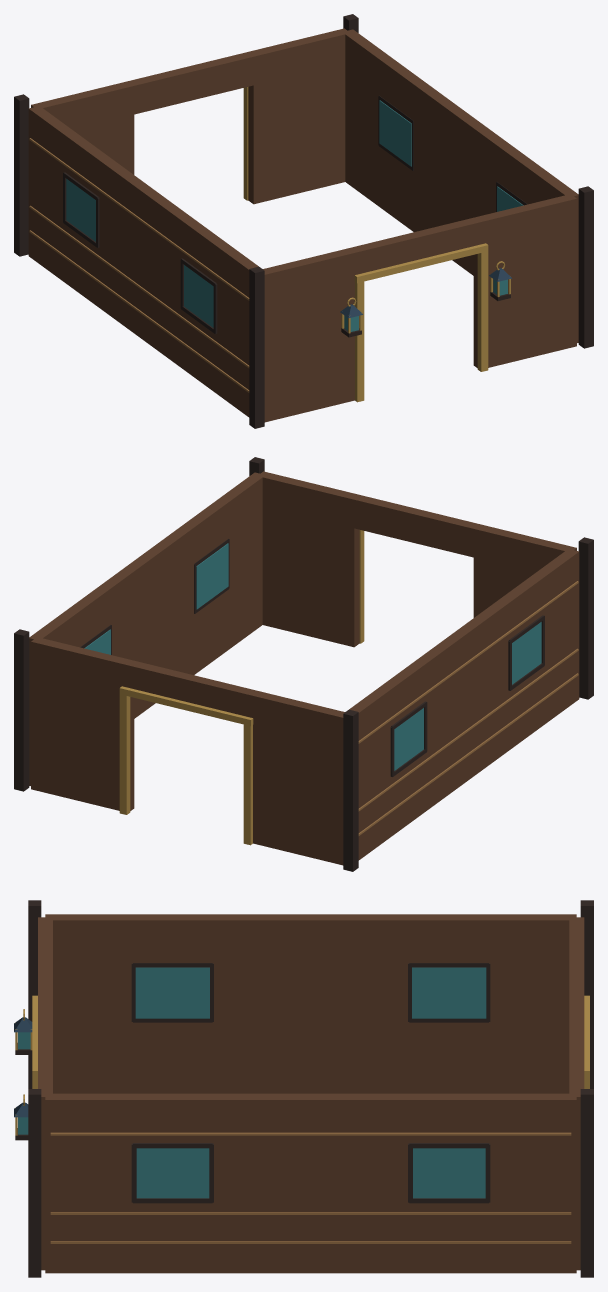
Rendered from PirateCove_CaptainsCabin_Standard.glb.
3 views of the same model, one above another, from view 1: azimuth 30°, elevation 25°; view 2: azimuth 150°, elevation 25°; view 3: azimuth 270°, elevation 25° (orthographic). The views are drawn at different scales.
Visible parts, largest first — view 1: PirateCove_CaptainsCabin_Standard; view 2: PirateCove_CaptainsCabin_Standard; view 3: PirateCove_CaptainsCabin_Standard.
Boxes of the visible parts, x1,y1,x2,y2 form: PirateCove_CaptainsCabin_Standard: [14, 14, 593, 428]; PirateCove_CaptainsCabin_Standard: [14, 457, 593, 871]; PirateCove_CaptainsCabin_Standard: [14, 900, 593, 1277].
Bounding box in the file's own units: 8.65 × 3.8 × 10.92.
